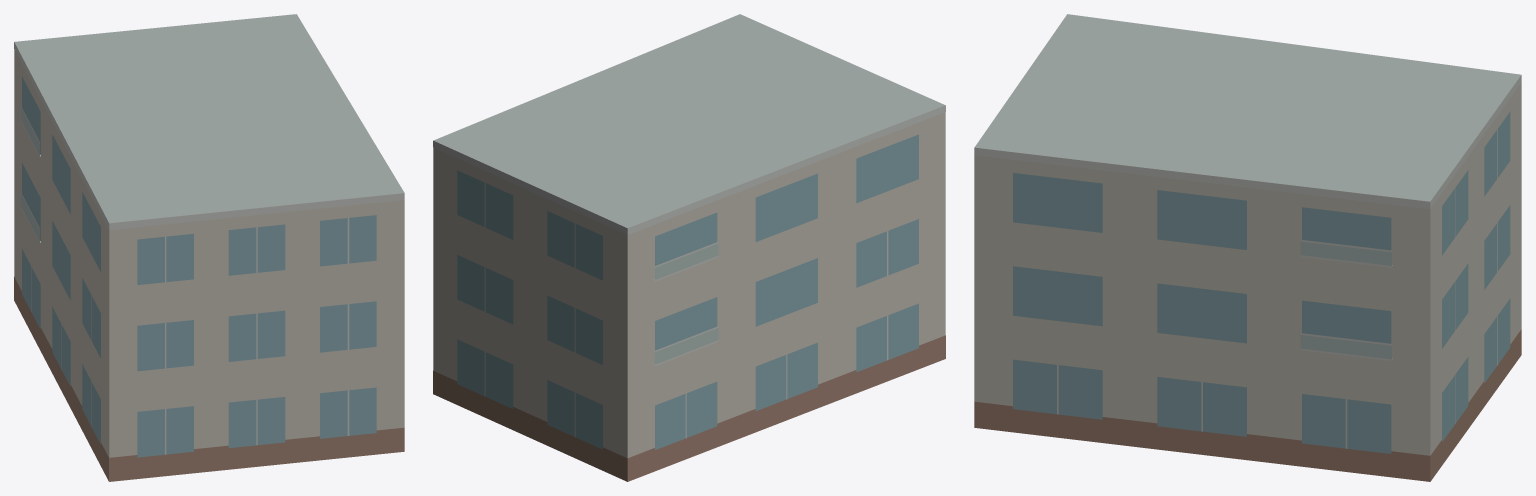
Rendered from survey-upis-32946329.glb.
3 views of the same model, side by side, from view 1: azimuth 30°, elevation 25°; view 2: azimuth 150°, elevation 25°; view 3: azimuth 270°, elevation 25° (orthographic). The views are drawn at different scales.
Visible parts, largest first — view 1: survey-upis-32946329.tmp; view 2: survey-upis-32946329.tmp; view 3: survey-upis-32946329.tmp.
Boxes of the visible parts, x1,y1,x2,y2 form: survey-upis-32946329.tmp: (14,14,404,481); survey-upis-32946329.tmp: (433,14,945,481); survey-upis-32946329.tmp: (974,14,1521,481).
Bounding box in the file's own units: 13.16 × 9.15 × 16.21.
